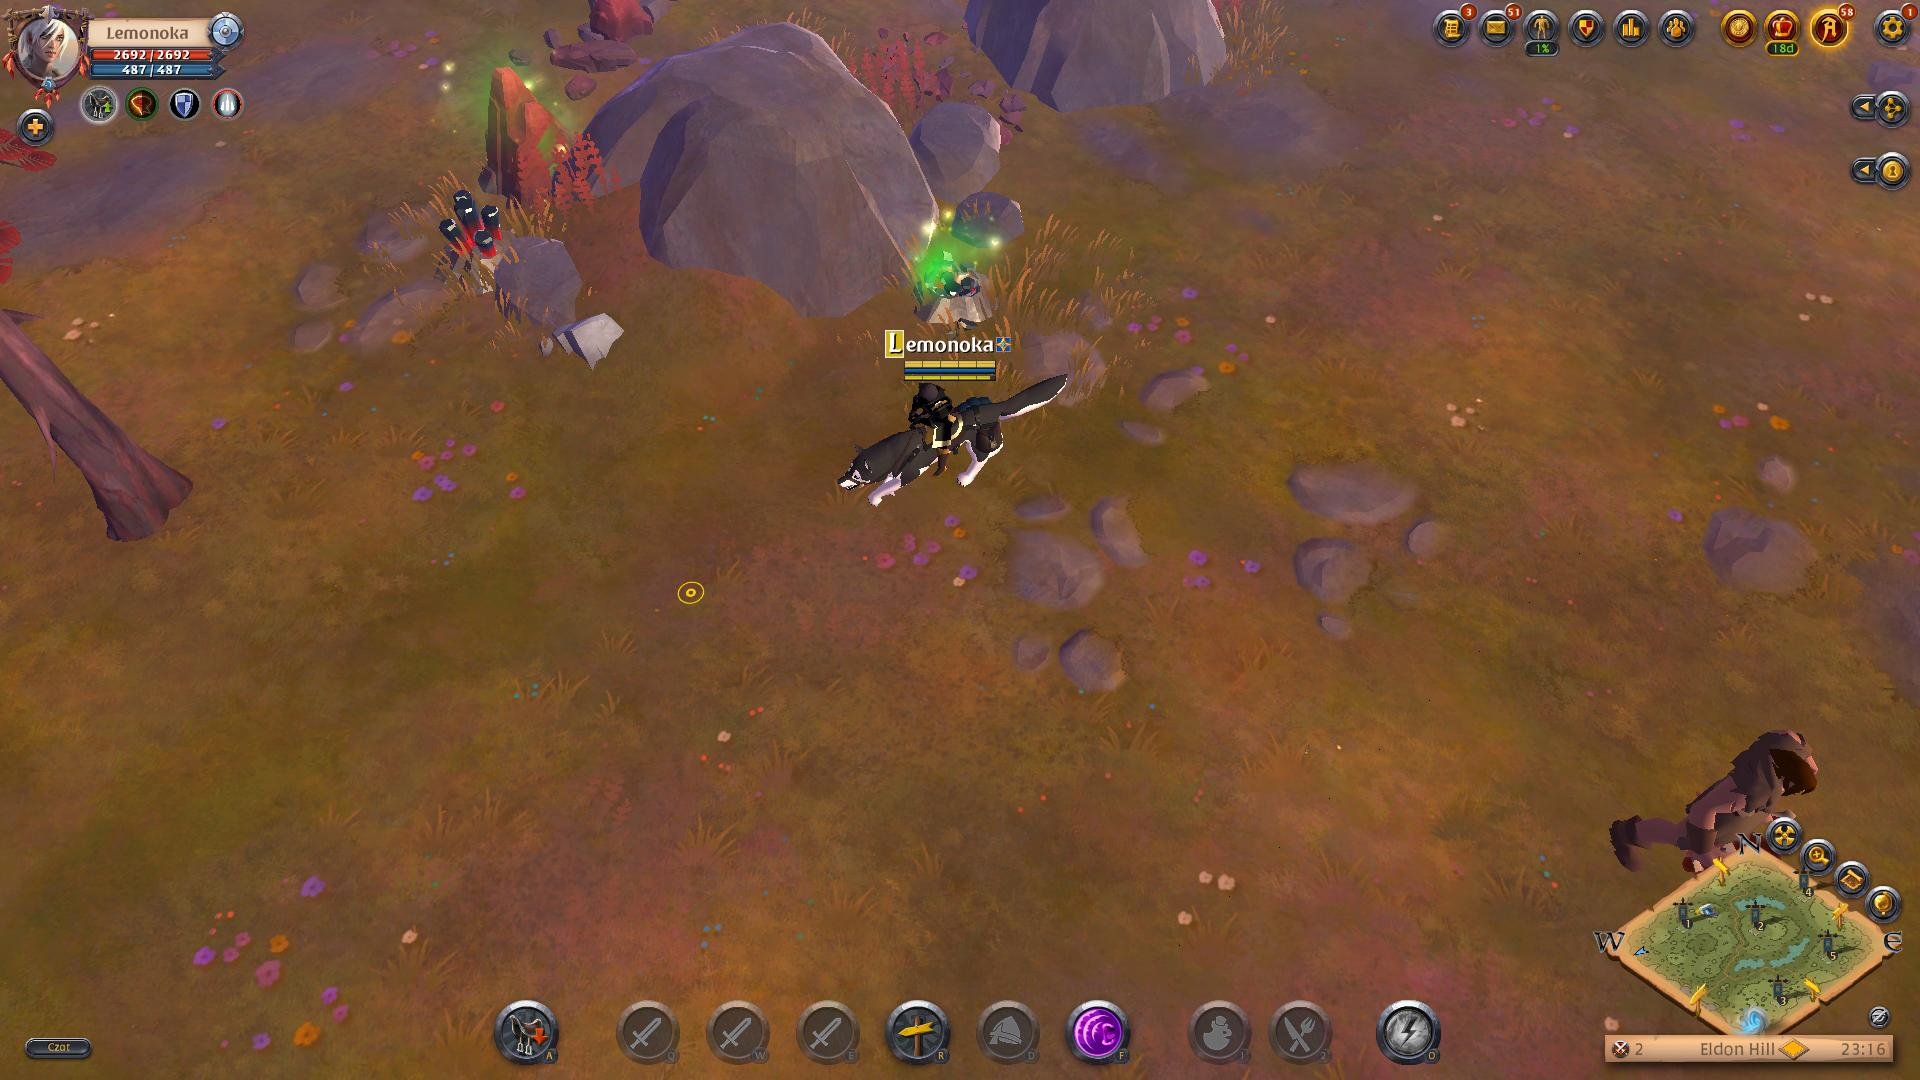ore tier 5: (431, 183, 520, 290)
rock tier 5: (476, 65, 593, 212)
